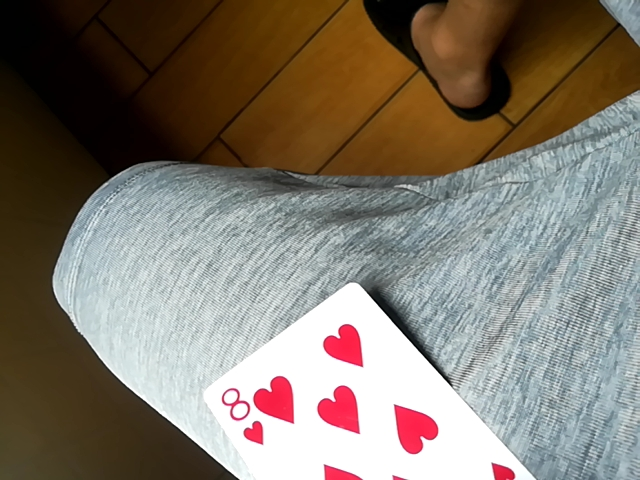hx 8: (206, 283, 523, 479)
